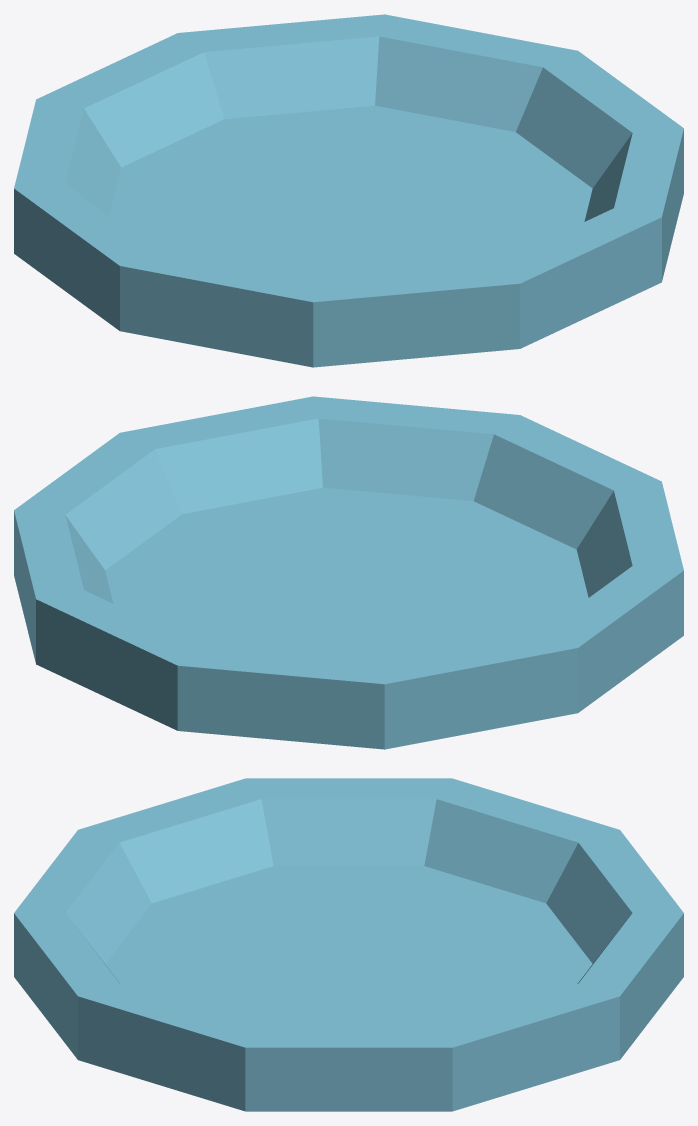
The model's file is Plate.fbx.
3 renders of one model, top to bottom at view 1: azimuth 30°, elevation 25°; view 2: azimuth 150°, elevation 25°; view 3: azimuth 270°, elevation 25°, orthographic. The views are drawn at different scales.
Visible parts, largest first — view 1: Plate; view 2: Plate; view 3: Plate.
Boxes of the visible parts, box(x1,y1,x2,y2) form: Plate: box(14, 14, 683, 367); Plate: box(14, 396, 683, 749); Plate: box(14, 778, 683, 1111).
Size of the model in its own units: 190 by 21.03 by 200.
